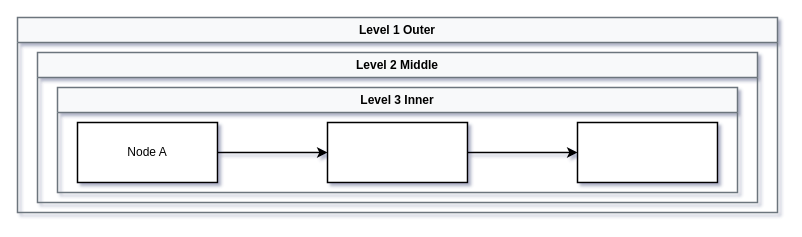
Some shapes in this 802 by 237 pixel diagram are drawn without their labels. Each missing label, with the centre of its shape:
Node B: point 397,152
Node C: point 647,152
